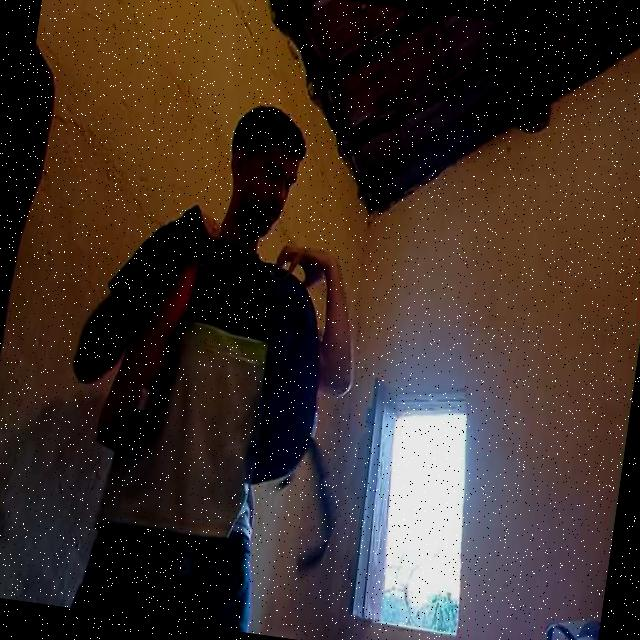capacete: (529, 601, 602, 640)
colete: (241, 258, 352, 495), (100, 220, 203, 448)
pessoa: (58, 70, 390, 640)
